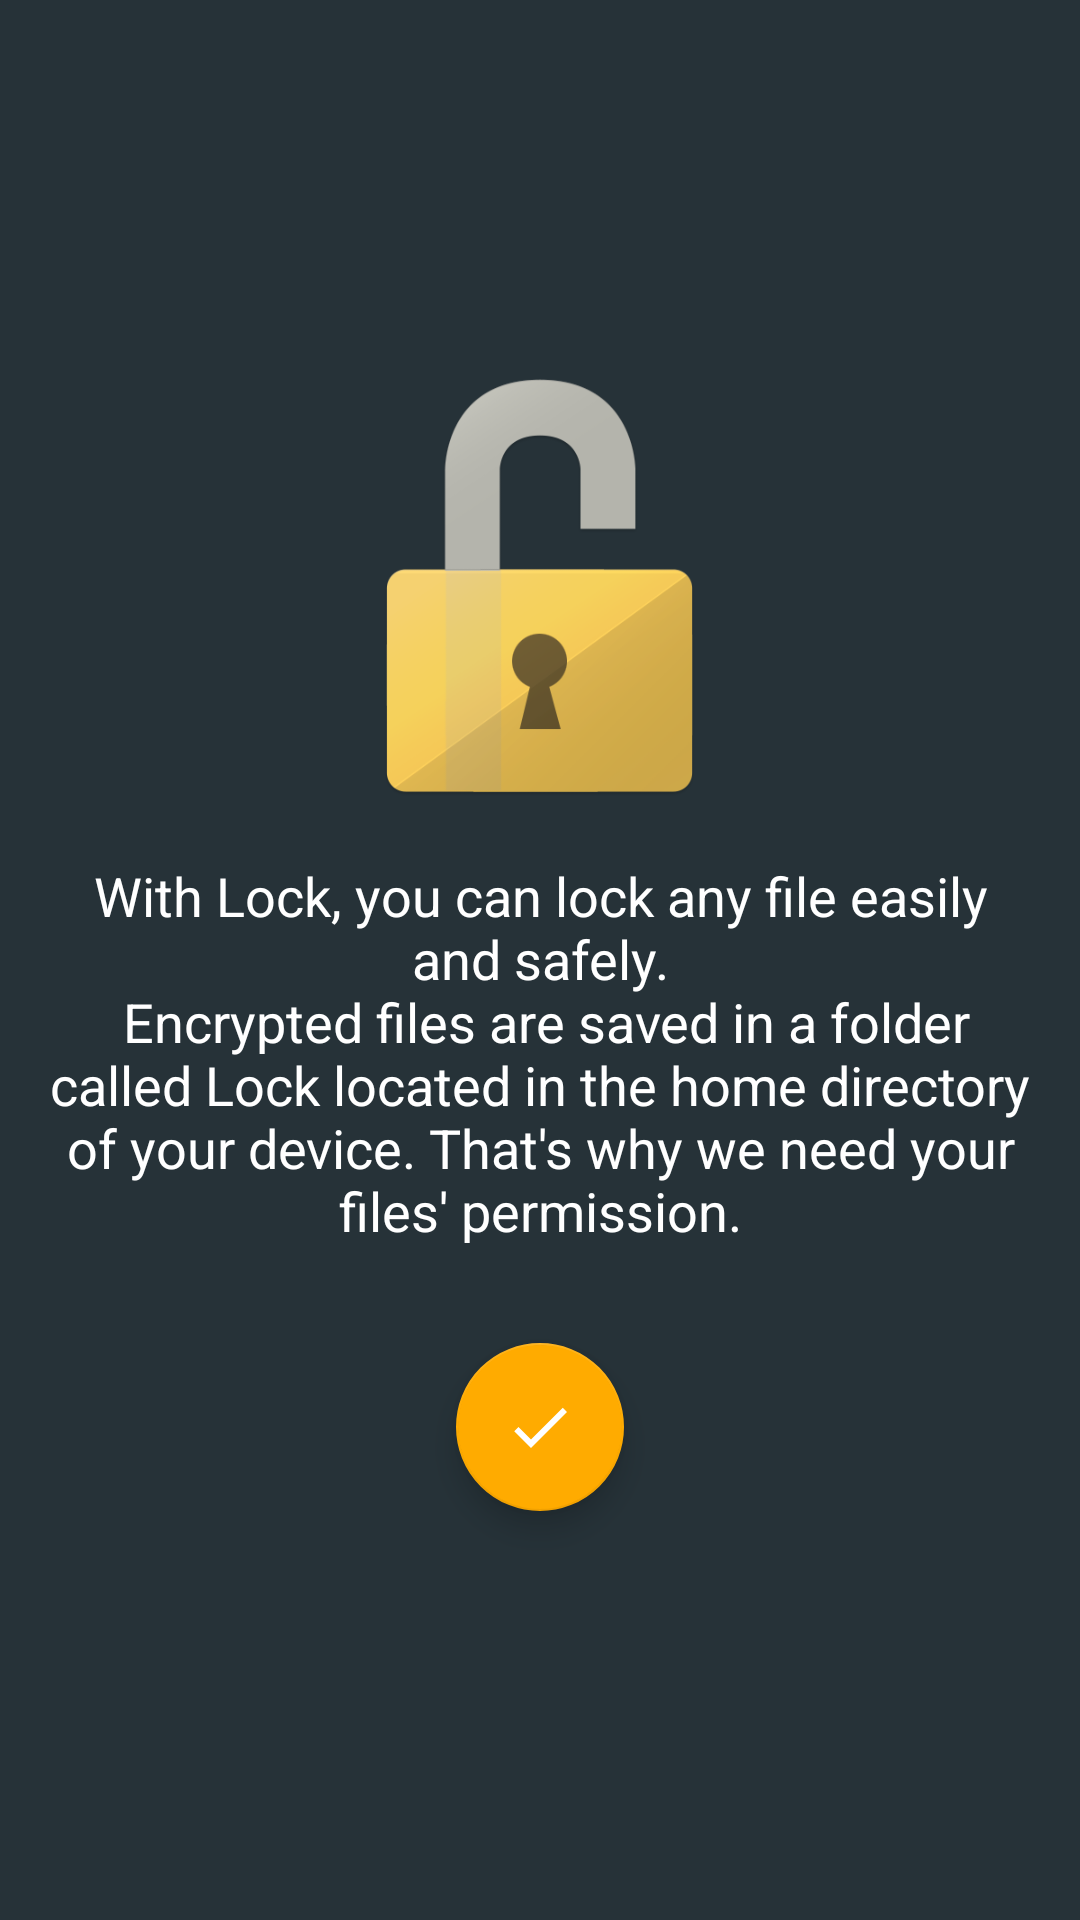

Screen size 1080*1920. Icon name, then its center in pixels as (x=x, y=y):
done: (x=540, y=1427)
